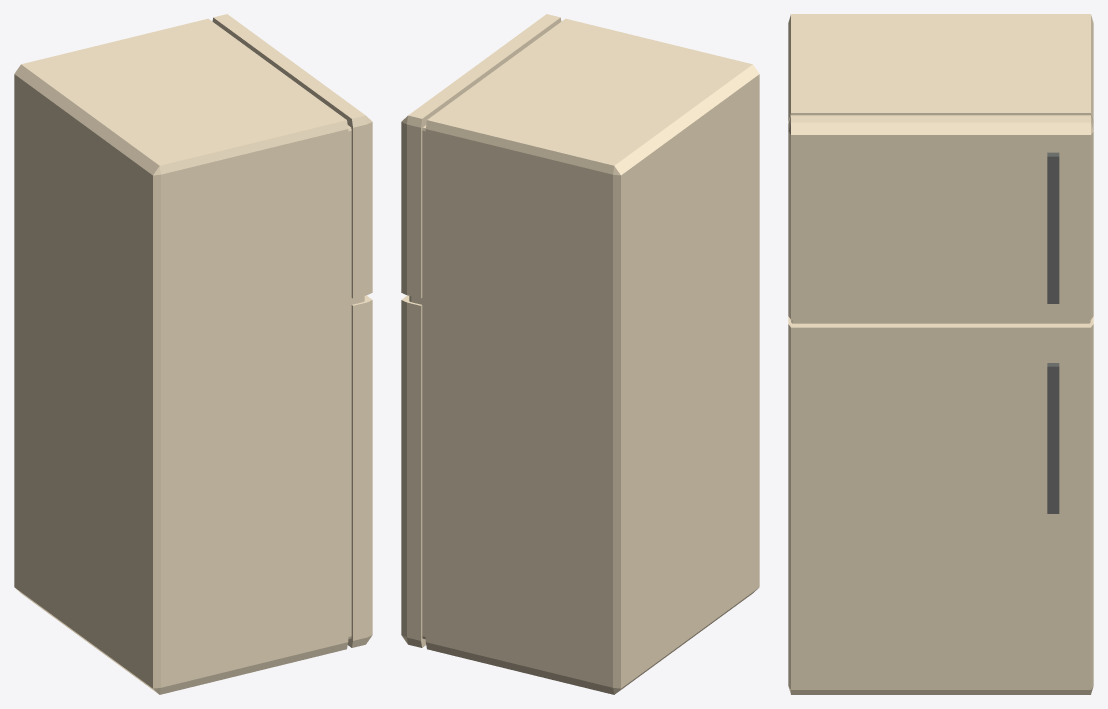
Rendered from Cocina_Refri_15.fbx.
3 renders of one model, left to right at view 1: azimuth 30°, elevation 25°; view 2: azimuth 150°, elevation 25°; view 3: azimuth 270°, elevation 25°, orthographic. The views are drawn at different scales.
Visible parts, largest first — view 1: refri; view 2: refri; view 3: refri.
Part boxes in pixels (x1,y1,x2,y2): refri: (14, 14, 372, 694); refri: (401, 14, 759, 694); refri: (788, 14, 1093, 694).
Size of the model in its own units: 77.24 by 172 by 83.11.
2 materials, 2 textured.
